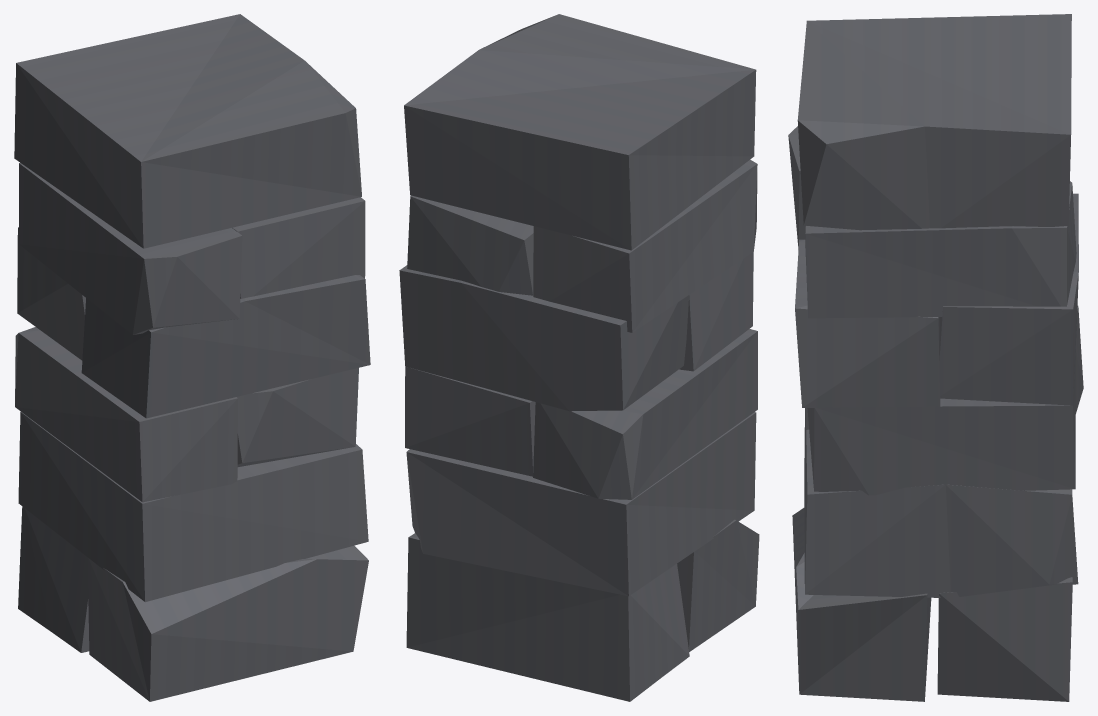
The model's file is Wall_1C_LOD1.fbx.
3 renders of one model, left to right at view 1: azimuth 30°, elevation 25°; view 2: azimuth 150°, elevation 25°; view 3: azimuth 270°, elevation 25°, orthographic. The views are drawn at different scales.
Parts seen in each view (by area): view 1: polySurface10133; view 2: polySurface10133; view 3: polySurface10133.
Part boxes in pixels (x1=…): polySurface10133: x1=14, y1=14, x2=370, y2=701; polySurface10133: x1=399, y1=14, x2=759, y2=701; polySurface10133: x1=788, y1=14, x2=1083, y2=701.
Size of the model in its own units: 106 by 236 by 110.
